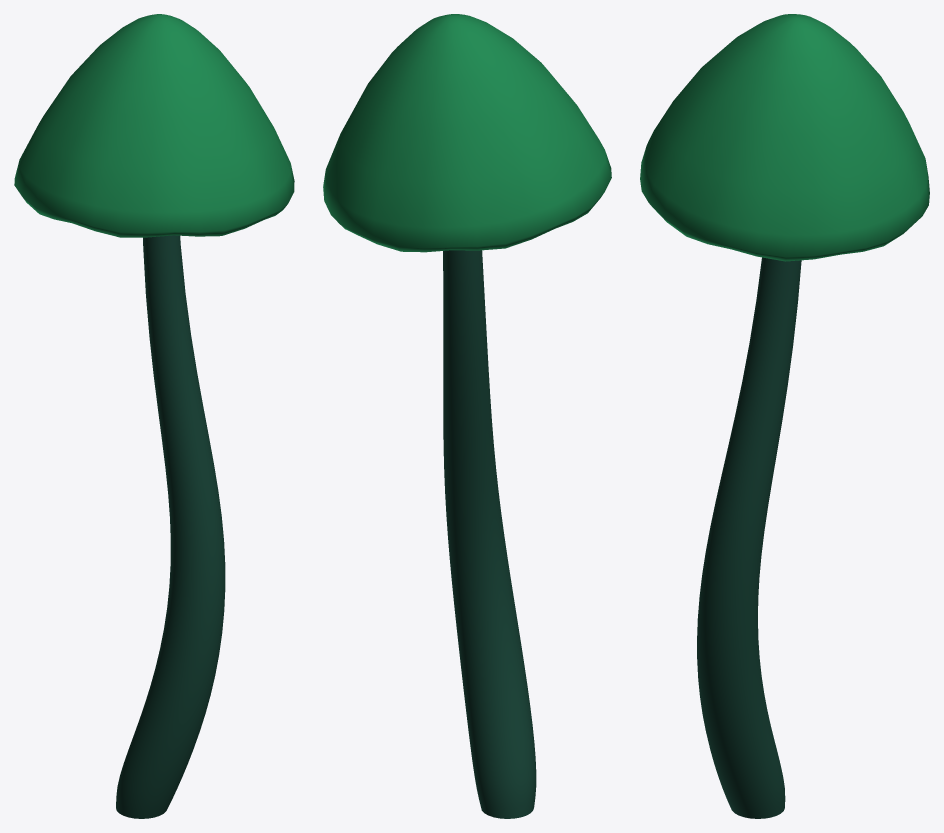
The model's file is GreenMush_C.fbx.
The picture shows the model from 3 angles, left to right: view 1: azimuth 30°, elevation 25°; view 2: azimuth 150°, elevation 25°; view 3: azimuth 270°, elevation 25°; orthographic projection. The views are drawn at different scales.
Parts seen in each view (by area): view 1: GreenMush_C; view 2: GreenMush_C; view 3: GreenMush_C.
Boxes of the visible parts, x1=… form: GreenMush_C: x1=14, y1=14, x2=294, y2=818; GreenMush_C: x1=323, y1=14, x2=611, y2=818; GreenMush_C: x1=640, y1=14, x2=929, y2=818.
Bounding box in the file's own units: 124 × 124 × 382.
